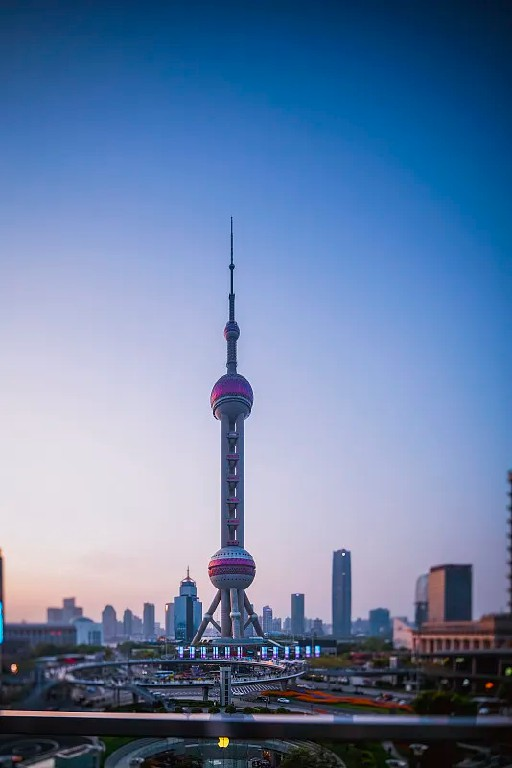Oriental: (191, 216, 265, 642)
